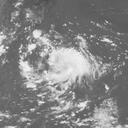cyclone: (43, 47, 93, 92)
